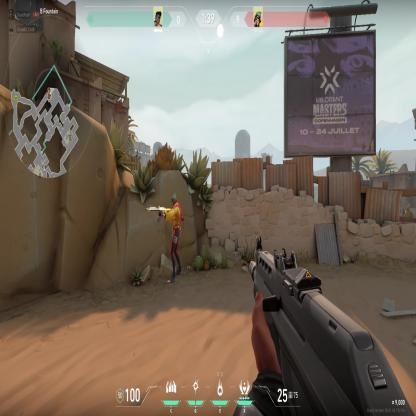enemy: (158, 192, 186, 284)
